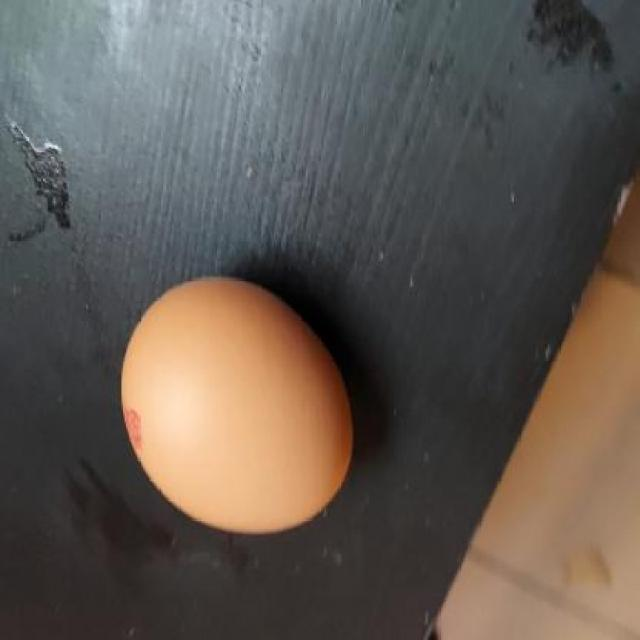biodegradable: (122, 274, 356, 535)
